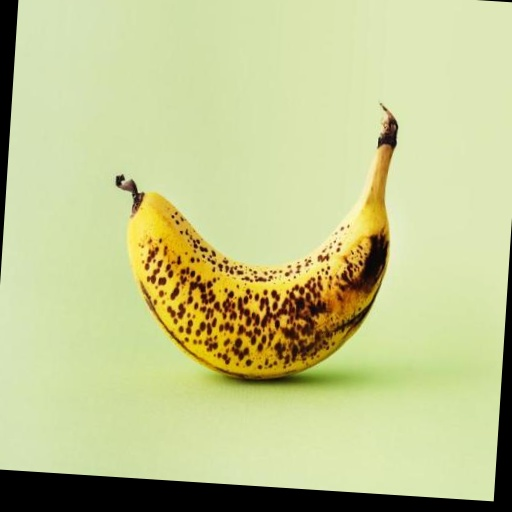fruit: (117, 107, 397, 379)
